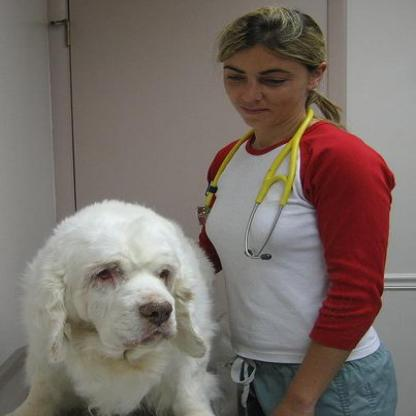clumber: (4, 188, 230, 413)
